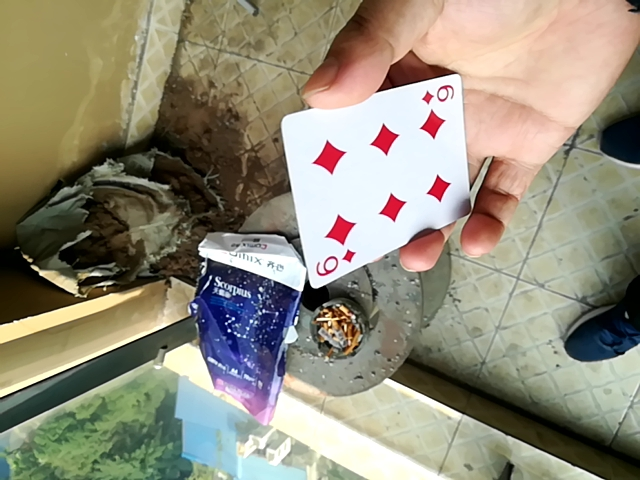fk 6: (259, 75, 462, 286)
